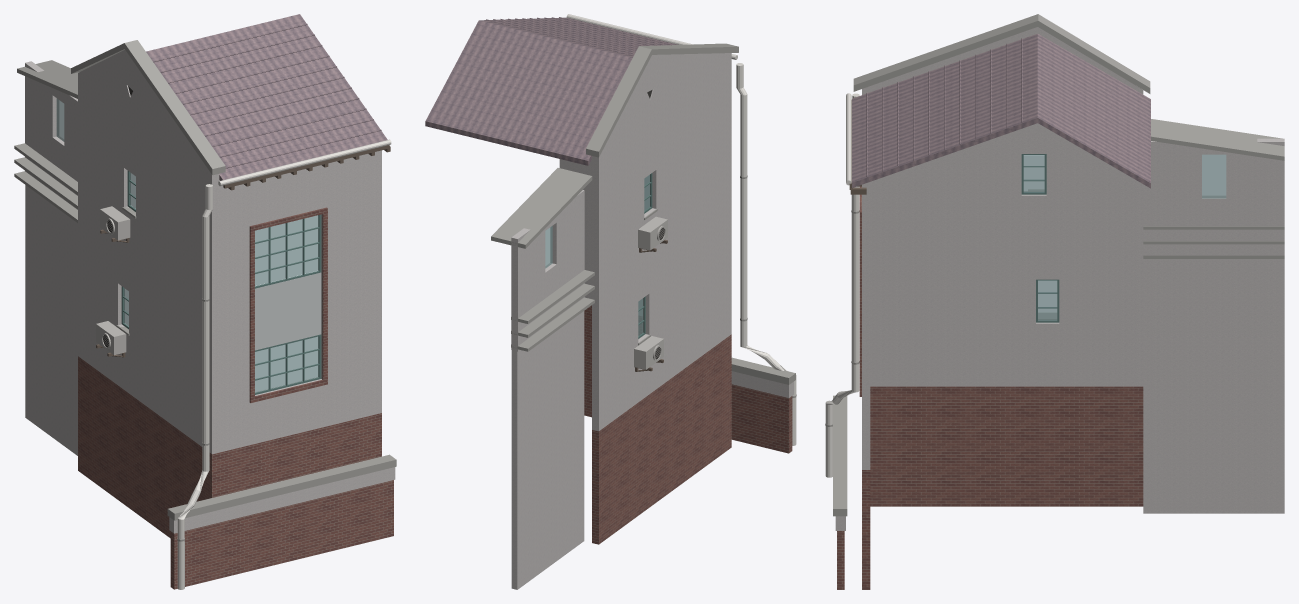
The model's file is full-source.glb.
3 renders of one model, left to right at view 1: azimuth 30°, elevation 25°; view 2: azimuth 150°, elevation 25°; view 3: azimuth 270°, elevation 25°, orthographic. The views are drawn at different scales.
Parts seen in each view (by area): view 1: 沪西别墅东侧临弄山墙与跨层钢窗; view 2: 沪西别墅东侧临弄山墙与跨层钢窗; view 3: 沪西别墅东侧临弄山墙与跨层钢窗.
Boxes of the visible parts, bbox=[...] form: 沪西别墅东侧临弄山墙与跨层钢窗: bbox=[14, 14, 396, 589]; 沪西别墅东侧临弄山墙与跨层钢窗: bbox=[425, 14, 796, 589]; 沪西别墅东侧临弄山墙与跨层钢窗: bbox=[825, 14, 1284, 589].
Bounding box in the file's own units: 6.04 × 11.98 × 10.23.
Materials: 11 (3 with a texture image).
